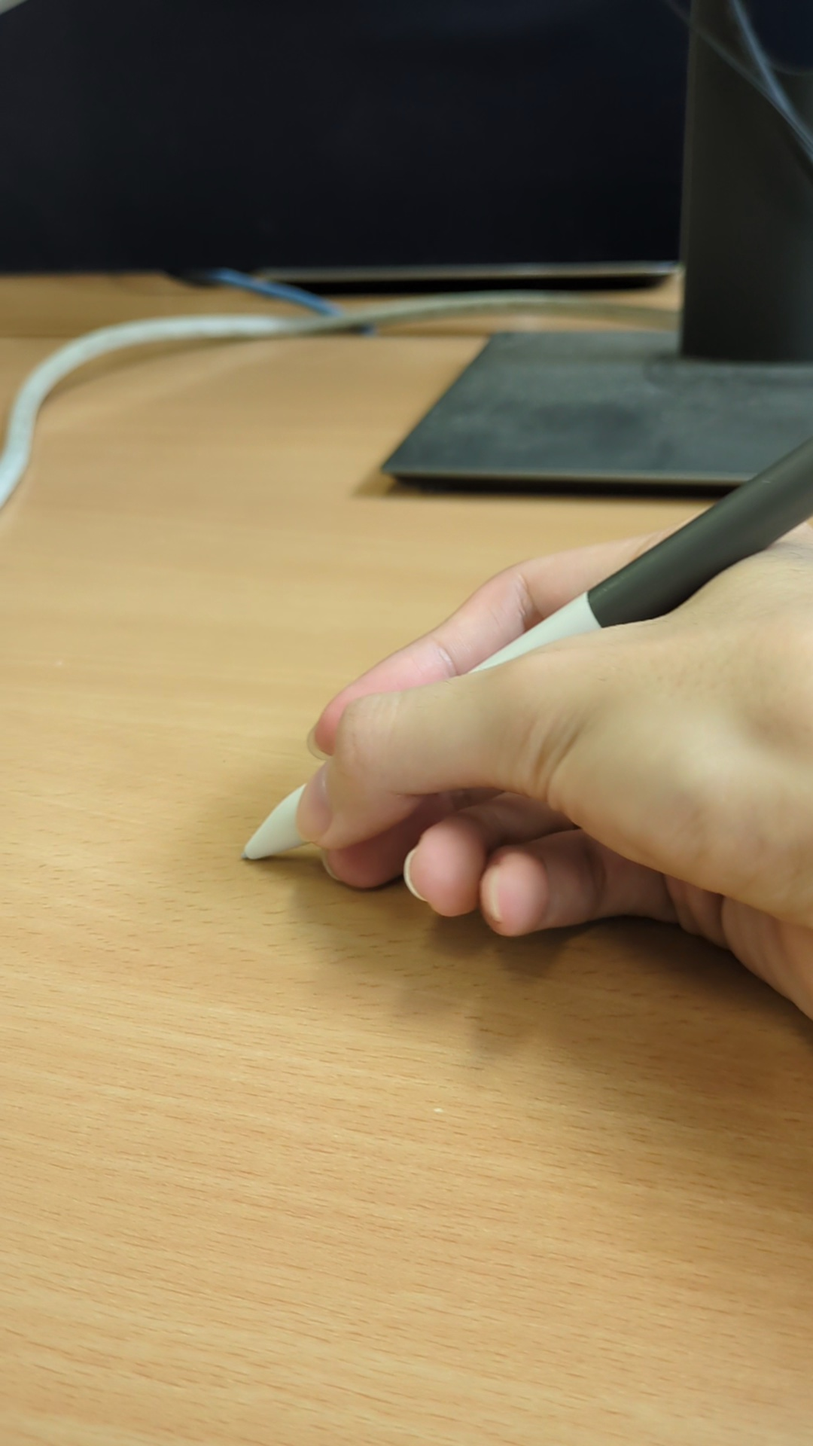pen: (236, 431, 813, 865)
tip: (236, 839, 263, 864)
